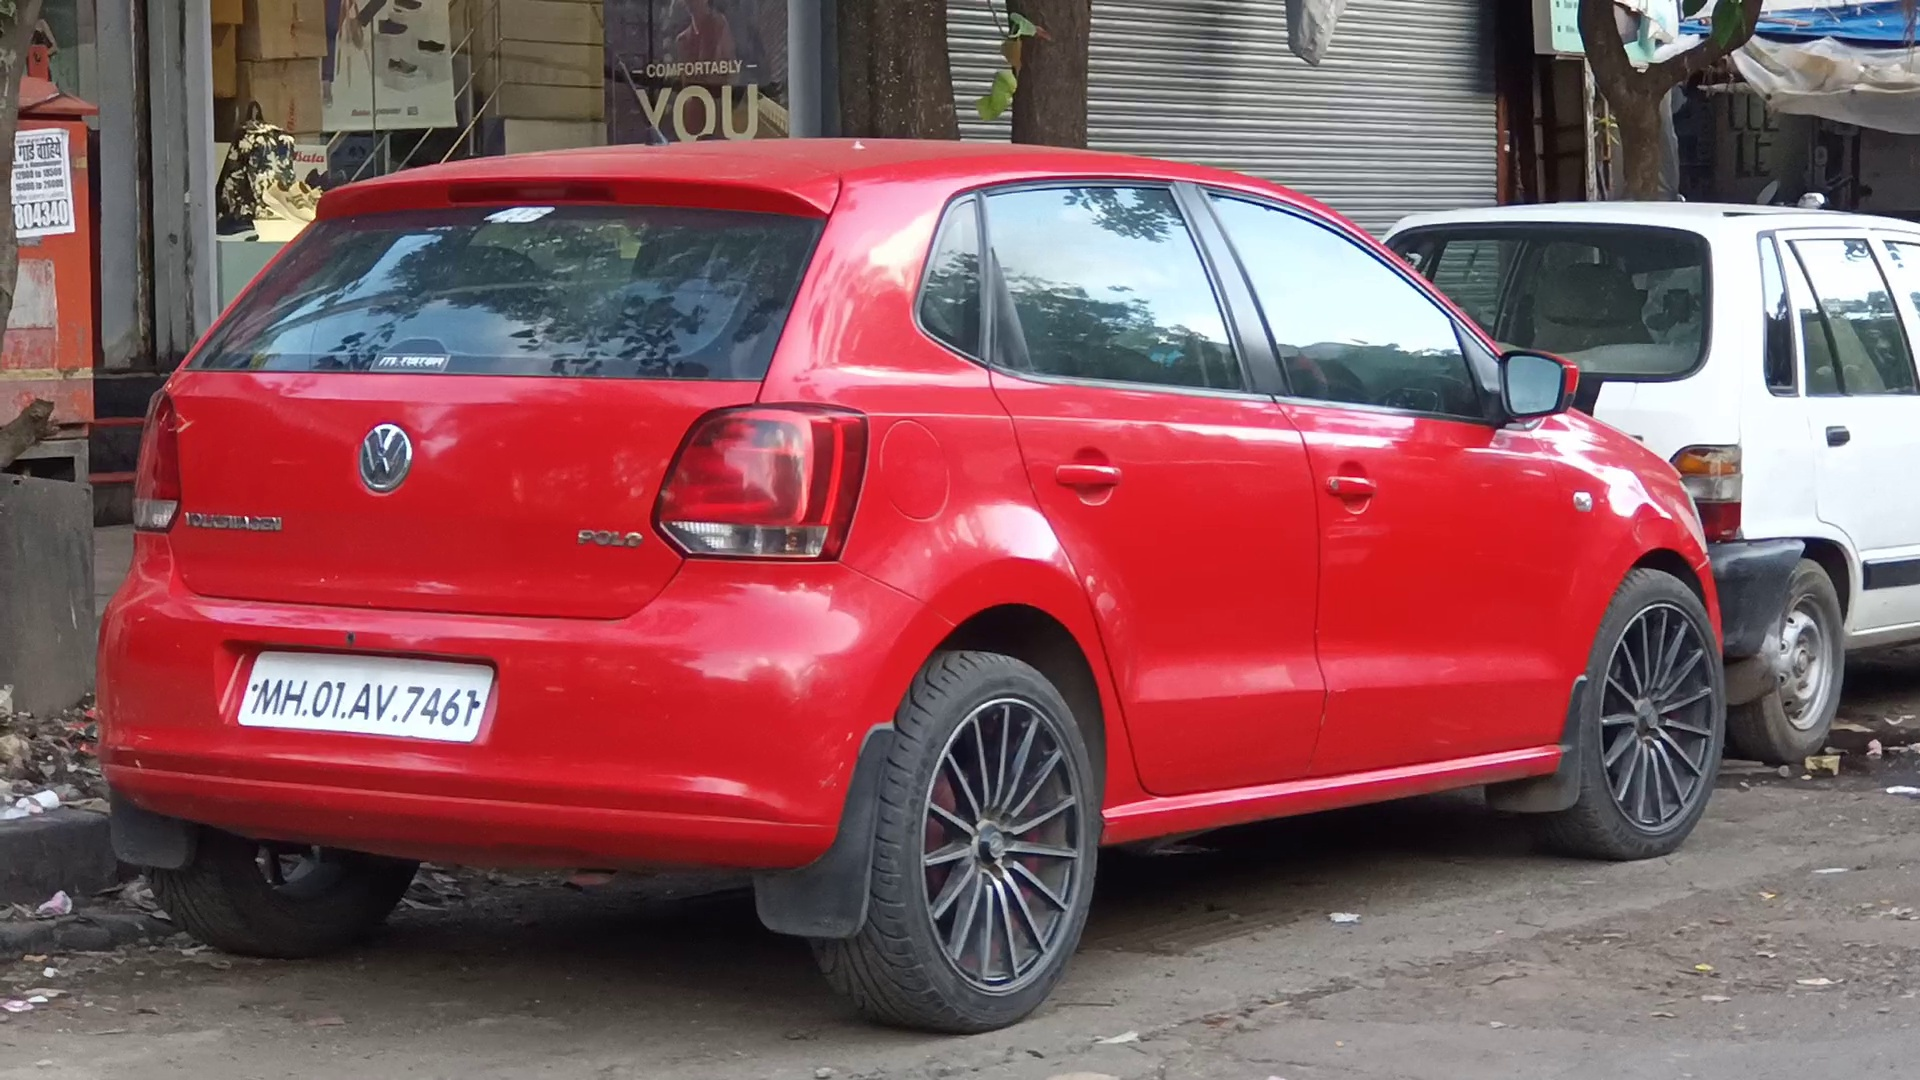MH01AV7461: (239, 650, 491, 744)
